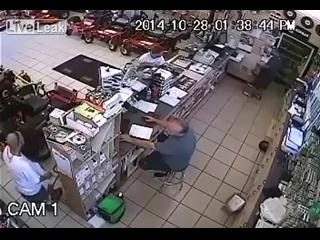Normal: (138, 112, 196, 174)
shoplifting: (0, 132, 62, 206)
